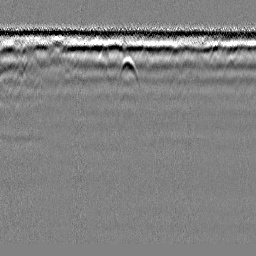cavity: (116, 54, 140, 88)
